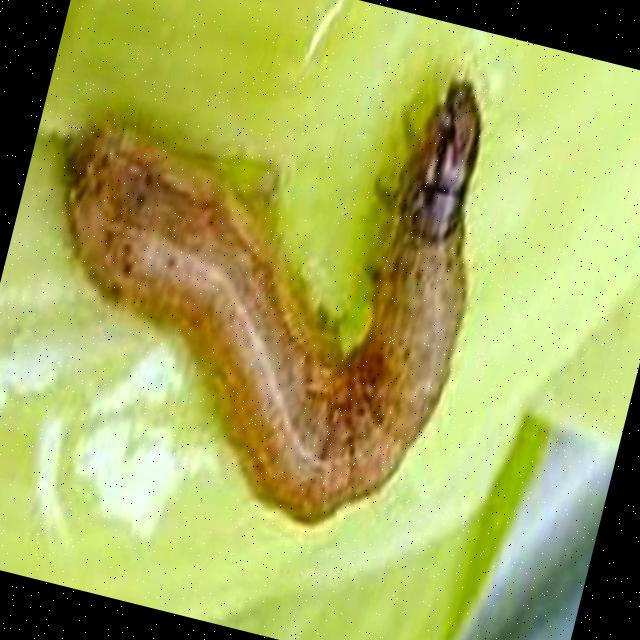worm: (1, 1, 523, 556)
